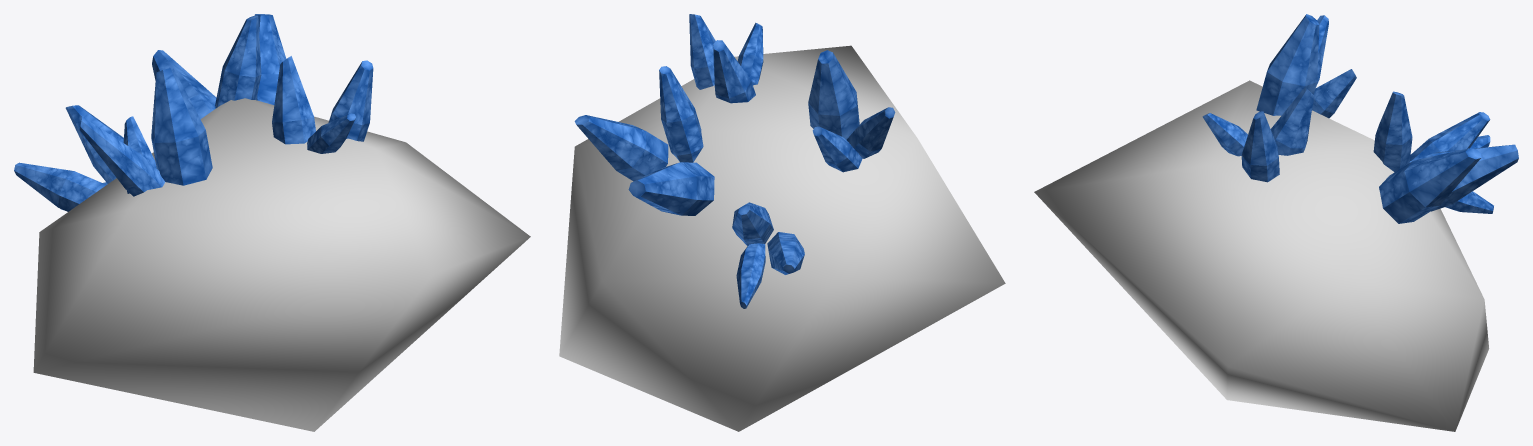
The model's file is crystal-source.glb.
3 views of the same model, side by side, from view 1: azimuth 30°, elevation 25°; view 2: azimuth 150°, elevation 25°; view 3: azimuth 270°, elevation 25° (orthographic). The views are drawn at different scales.
Parts seen in each view (by area): view 1: Crystal Source; view 2: Crystal Source; view 3: Crystal Source.
Part boxes in pixels (x1,y1,x2,y2): Crystal Source: (14, 14, 530, 431); Crystal Source: (559, 14, 1005, 431); Crystal Source: (1034, 14, 1518, 431).
Size of the model in its own units: 1.39 by 0.9754 by 1.27.
Materials: 2 (1 with a texture image).
